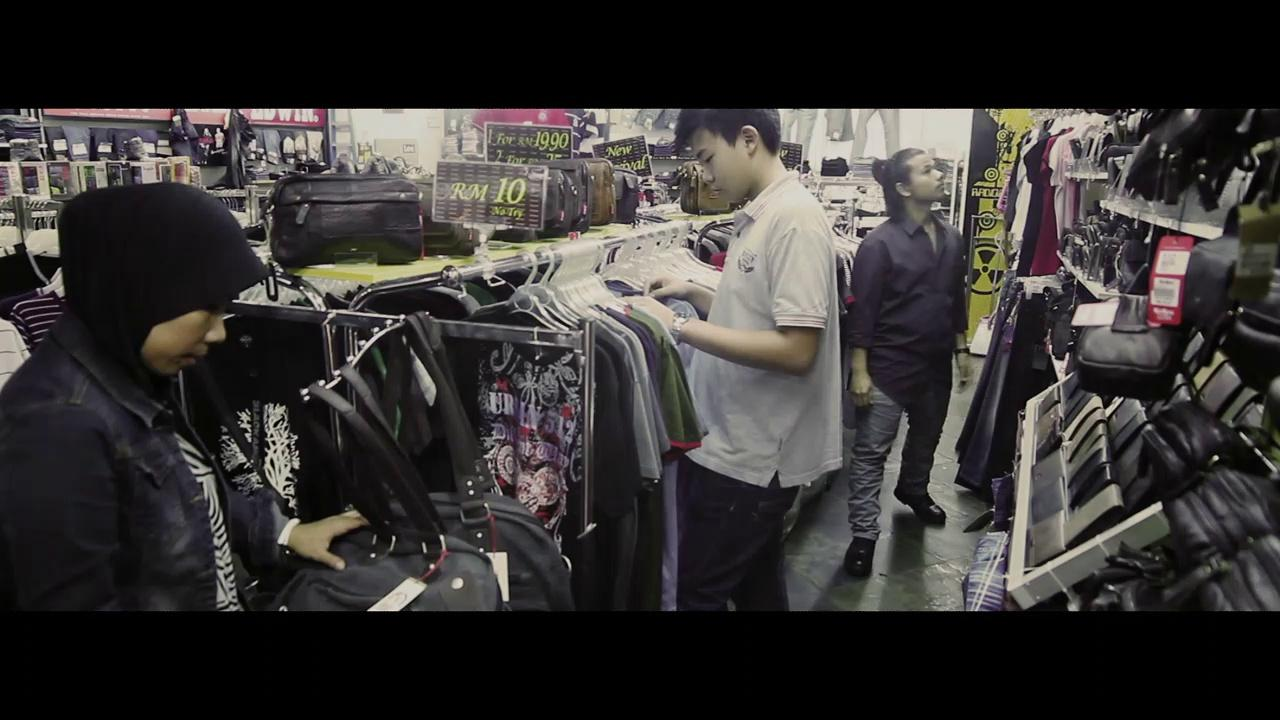Regular: (0, 152, 493, 615), (562, 107, 878, 614), (864, 143, 1021, 410)
